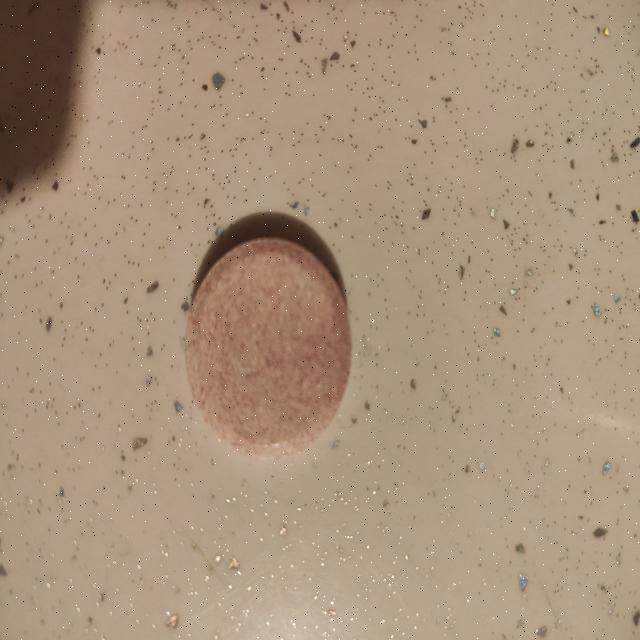Circle: (182, 232, 353, 461)
